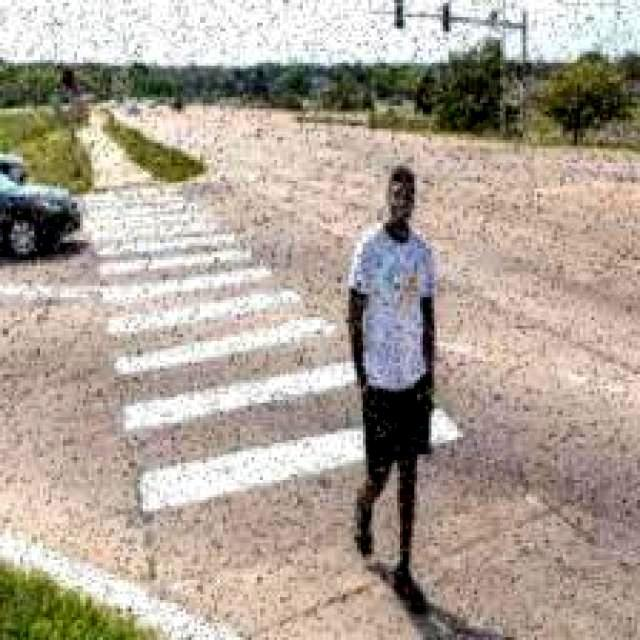crosswalk: (86, 171, 490, 530)
